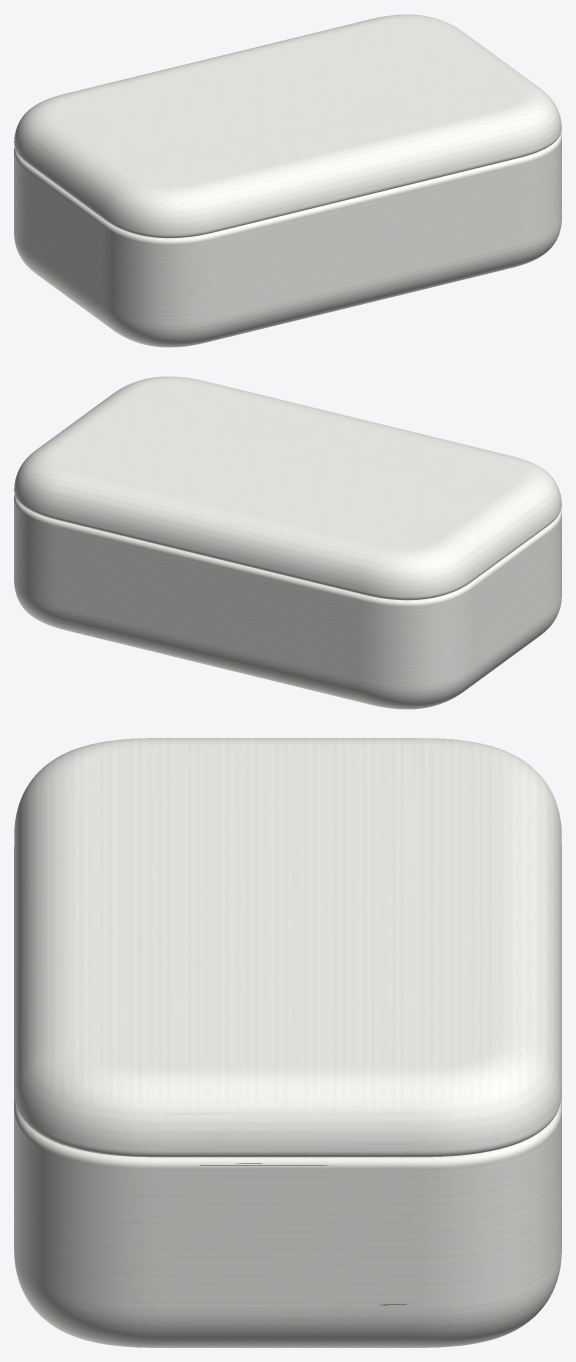
Rendered from incense-box-with-lid.glb.
3 renders of one model, top to bottom at view 1: azimuth 30°, elevation 25°; view 2: azimuth 150°, elevation 25°; view 3: azimuth 270°, elevation 25°, orthographic. The views are drawn at different scales.
Size of the model in its own units: 0.09 by 0.03 by 0.055.
Materials: 1 (1 with a texture image).
